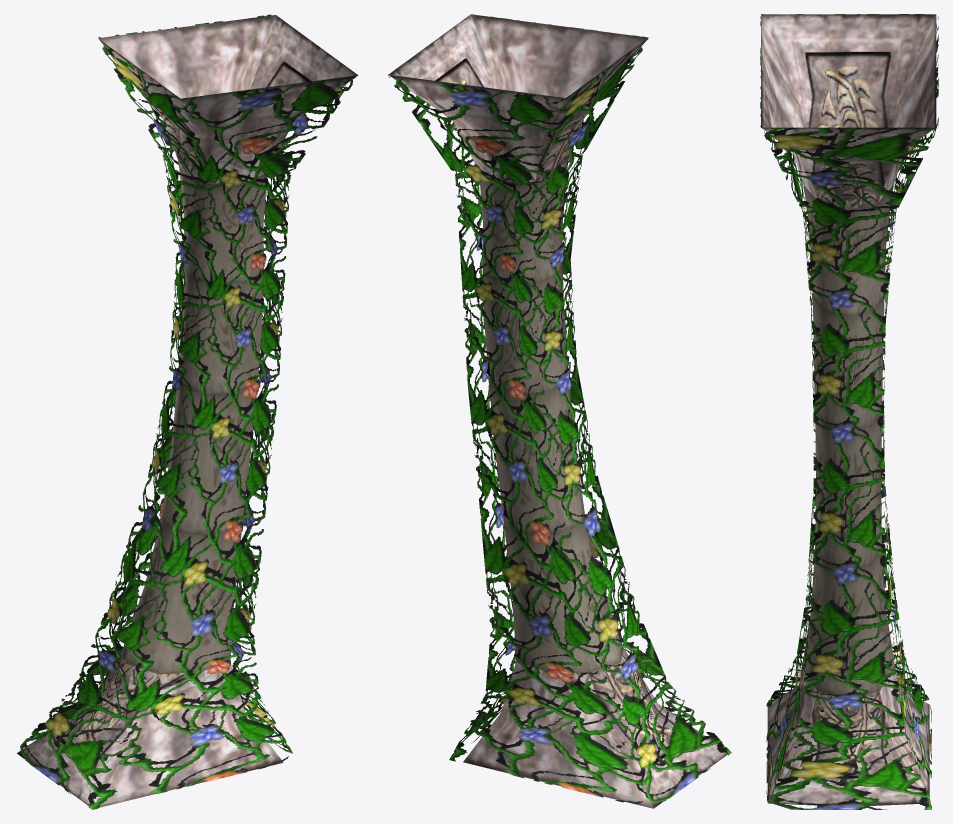
Rendered from EKH_GROTTO_PS_GR_PILLAR48477__GX.obj.
3 renders of one model, left to right at view 1: azimuth 30°, elevation 25°; view 2: azimuth 150°, elevation 25°; view 3: azimuth 270°, elevation 25°, orthographic. The views are drawn at different scales.
Visible parts, largest first — view 1: Pillar48477__GX; view 2: Pillar48477__GX; view 3: Pillar48477__GX.
Boxes of the visible parts, left/top/right/bottom form: Pillar48477__GX: left=17, top=14, right=358, bottom=809; Pillar48477__GX: left=388, top=14, right=731, bottom=808; Pillar48477__GX: left=760, top=14, right=938, bottom=809.
Size of the model in its own units: 158 by 396 by 87.28.
